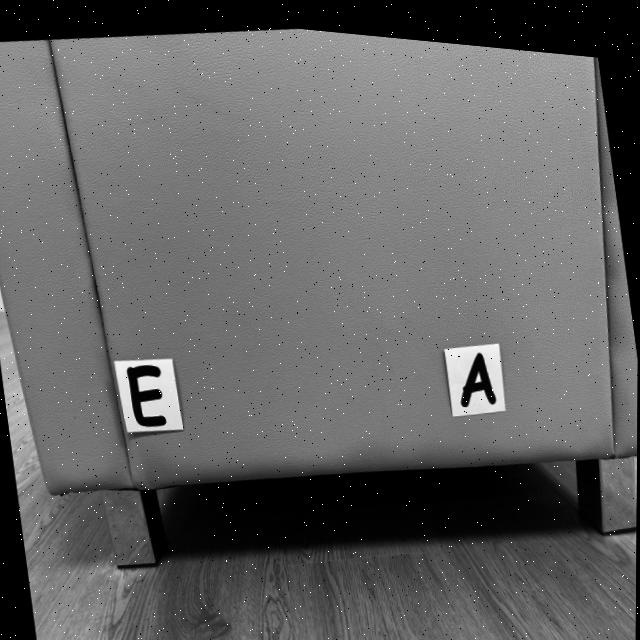A: (462, 344, 497, 397)
E: (128, 362, 167, 424)
